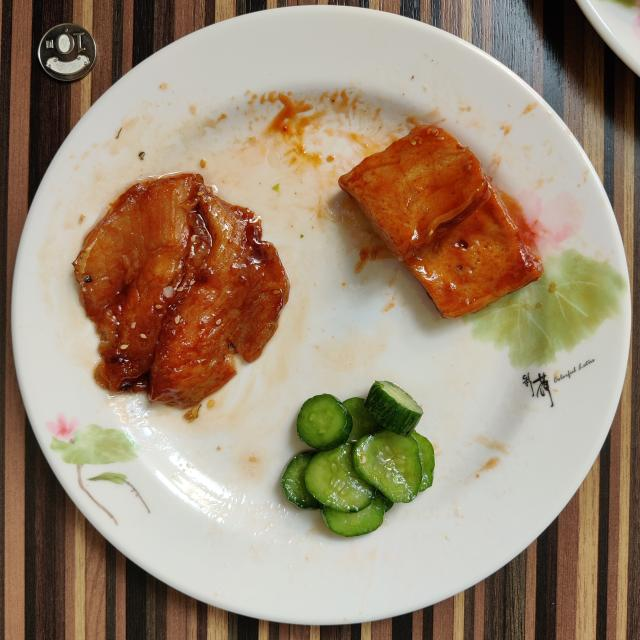Kabayaki sea bream fillet: (74, 174, 289, 408)
coin: (38, 24, 96, 81)
creamy tofu: (339, 125, 542, 318)
cucumber: (281, 381, 435, 538)
